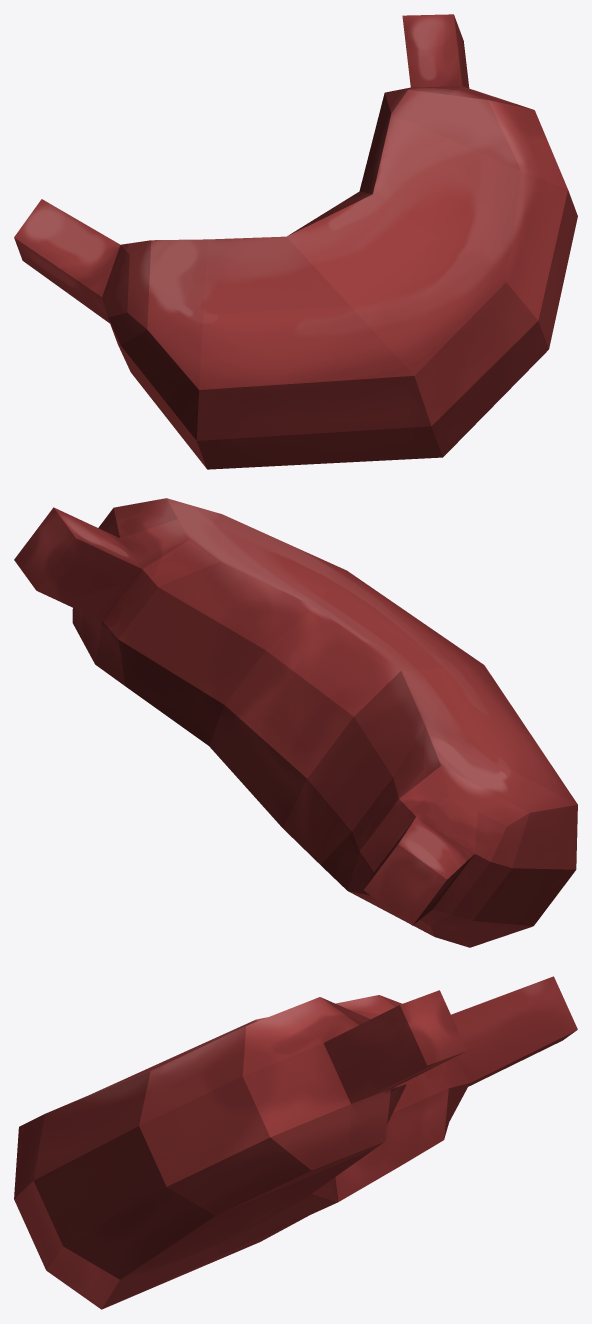
Rendered from chicken_stomach.fbx.
The picture shows the model from 3 angles, top to bottom: view 1: azimuth 30°, elevation 25°; view 2: azimuth 150°, elevation 25°; view 3: azimuth 270°, elevation 25°; orthographic projection. The views are drawn at different scales.
Visible parts, largest first — view 1: stomach; view 2: stomach; view 3: stomach.
Boxes of the visible parts, box(x1,y1,x2,y2) form: stomach: box(14, 14, 577, 469); stomach: box(14, 498, 577, 947); stomach: box(14, 976, 577, 1309).
Size of the model in its own units: 78.91 by 60.45 by 76.25.
1 material, 1 textured.
